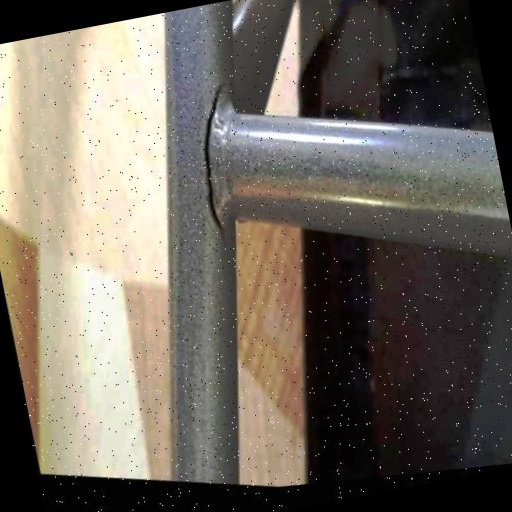crack: (165, 58, 277, 258)
